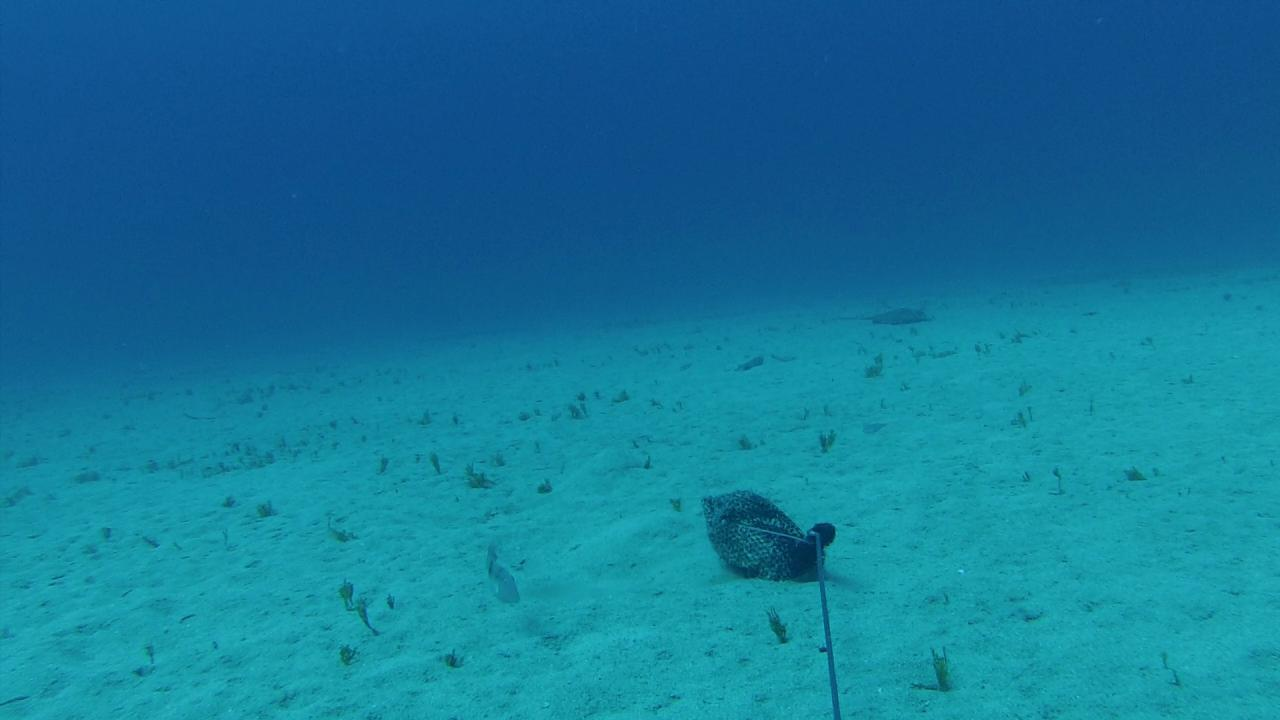dasyatis: (840, 306, 929, 326)
raor: (481, 541, 525, 607)
